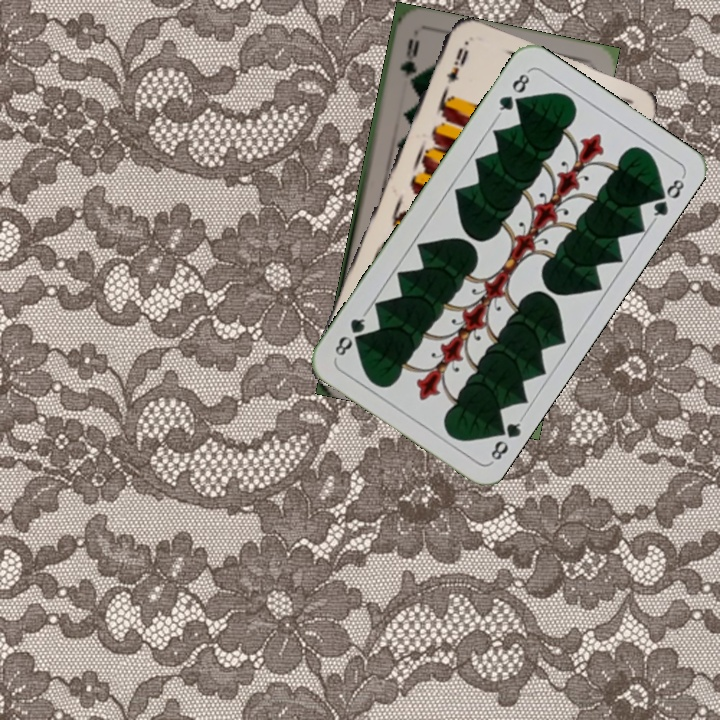E9: (442, 43, 472, 86)
G8: (486, 413, 526, 466), (493, 67, 533, 119)
G9: (396, 35, 422, 87)
